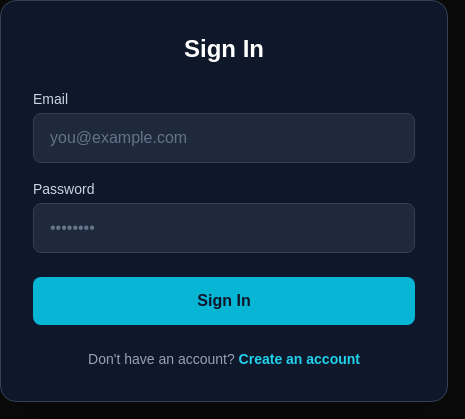
it: AuthForm › disables submit button while loading
Type "test@example.com" into the field labelled "Email" at (224, 138), box [33, 113, 415, 163]
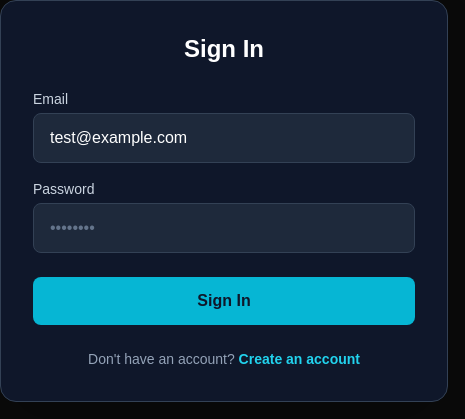
Type "password123" into the password field labelled "Password" at (224, 228), box [33, 203, 415, 253]
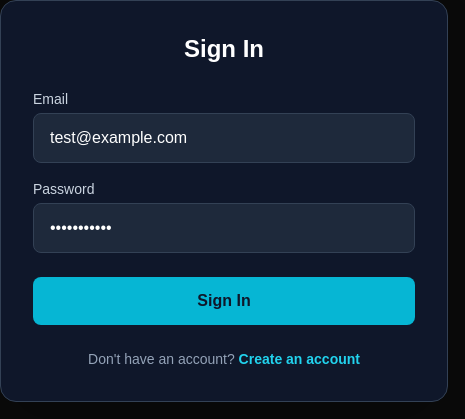
Click the button "Sign In" at (224, 301), box [33, 277, 415, 325]
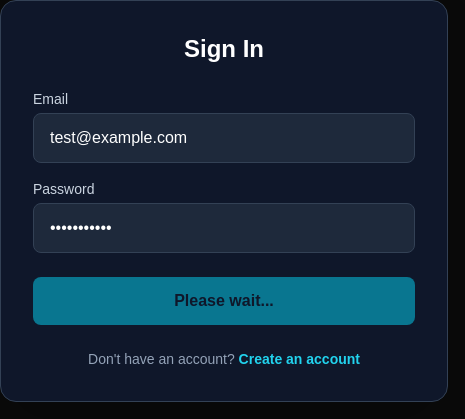
Expected: the button named "sign in" is disabled, [33, 277, 415, 325]
